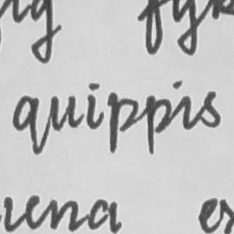i: (83, 80, 103, 131), (175, 82, 194, 132)
p: (104, 90, 141, 155), (144, 92, 173, 157)
q: (10, 92, 42, 157)
s: (195, 89, 223, 131)
u: (47, 92, 80, 132)
